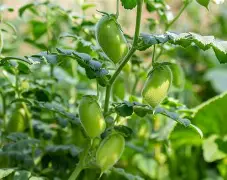crops: (0, 0, 223, 177)
